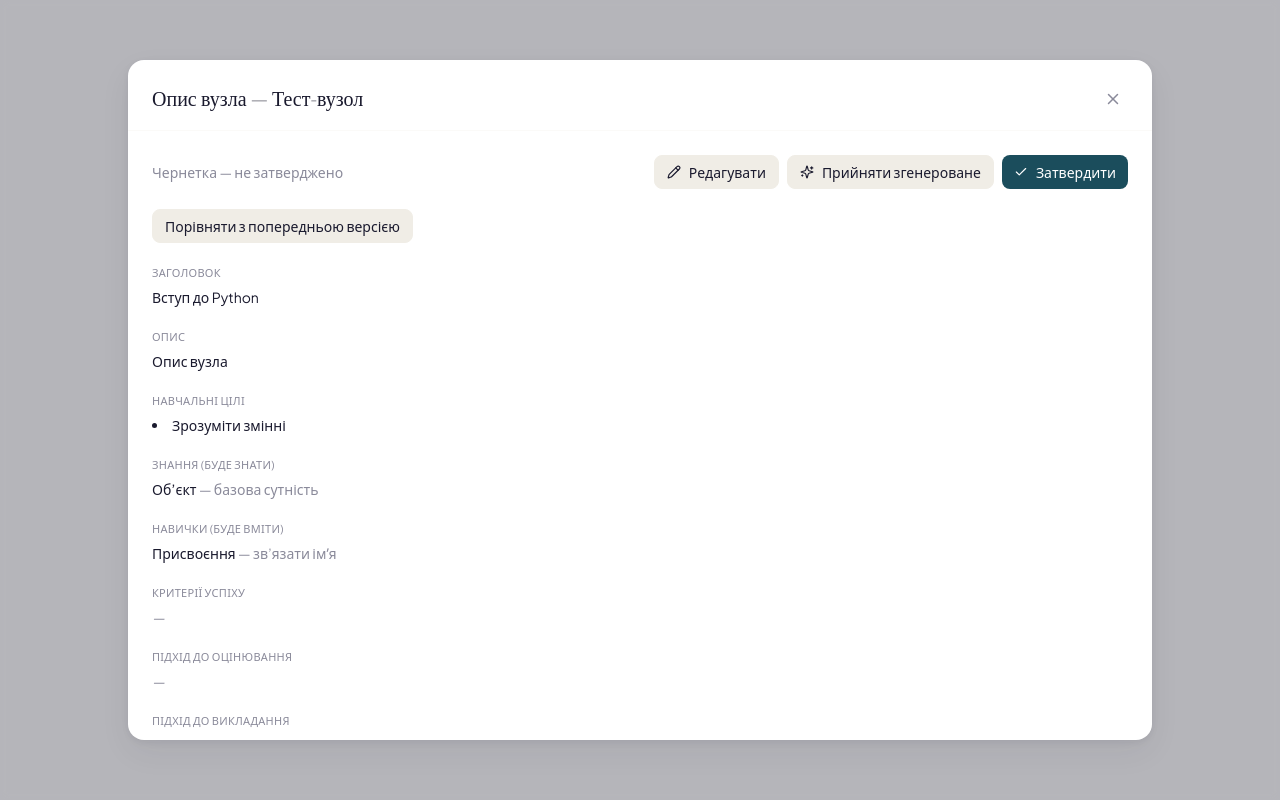
Test case: SummaryModal — overview mode (Task 3.2.5b c3) › highlights only the changed field on diff (field-level)
The width and height of the screenshot is (1280, 800).
Click the button "Порівняти з попередньою версією".
click(282, 226)  # box [152, 209, 413, 243]
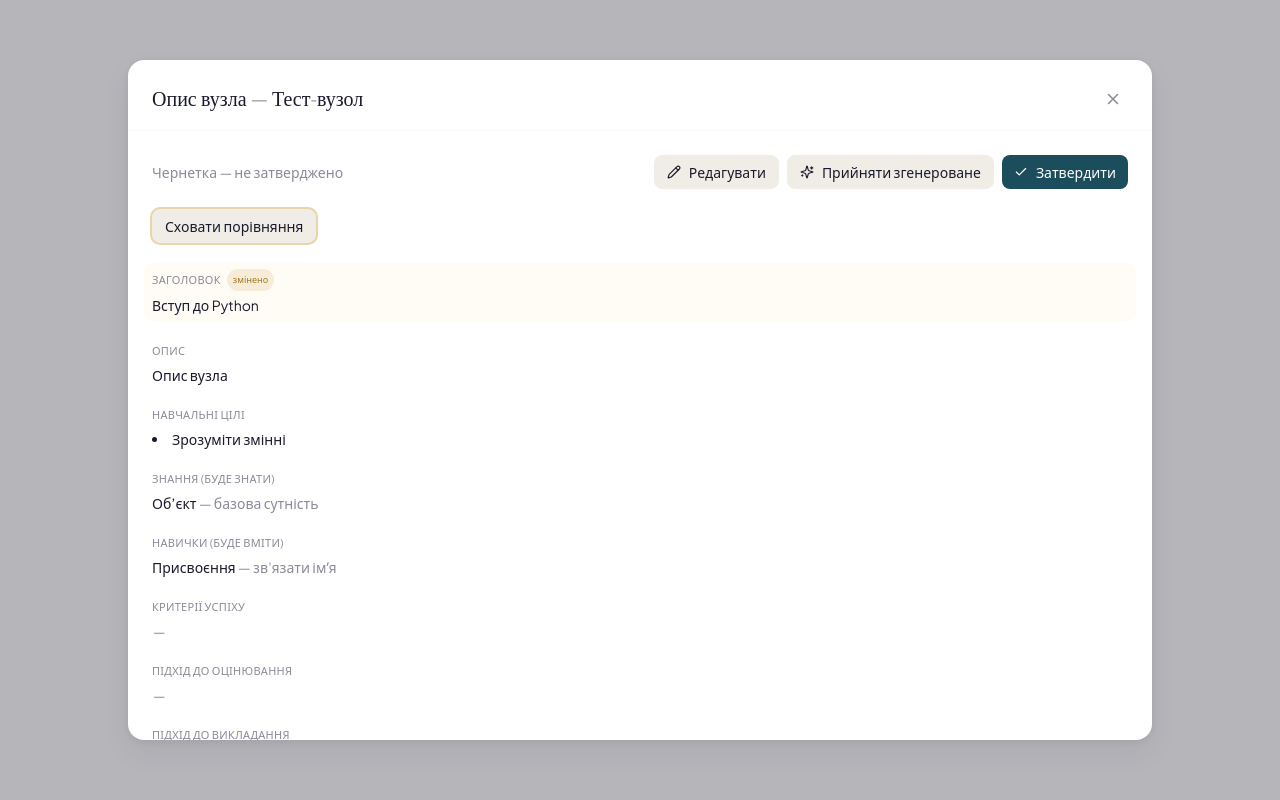
Expected: the text "змінено" is shown once, [227, 269, 274, 291]
Click the button "Сховати порівняння".
click(234, 226)  # box [152, 209, 316, 243]
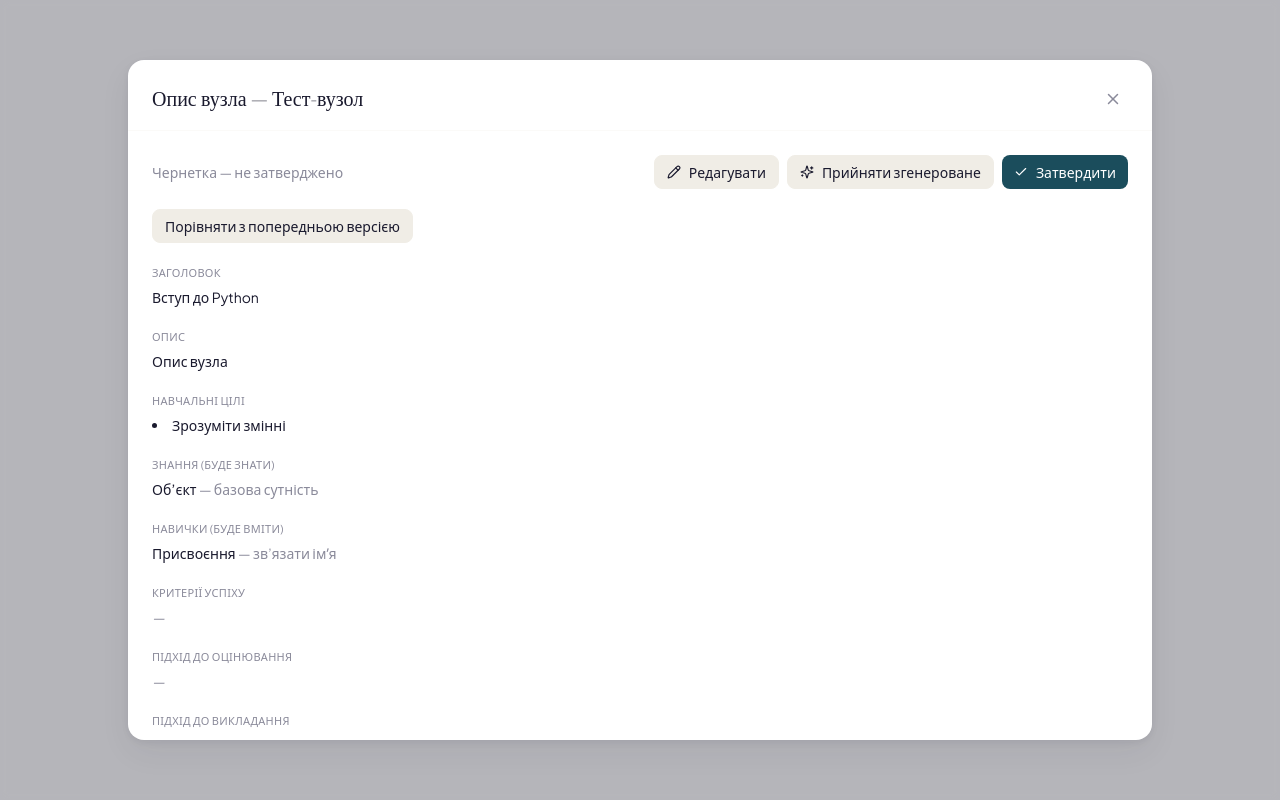
Expected: the text "змінено" is gone
